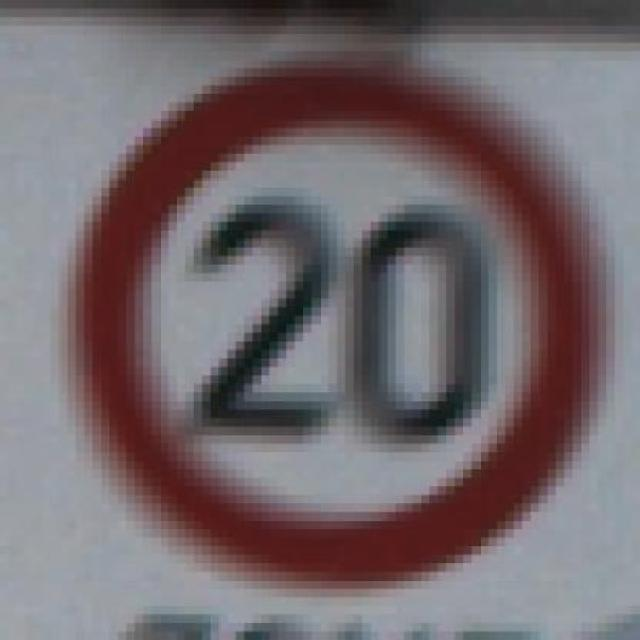Speed Limit 20 KMPh: (34, 51, 623, 606)
